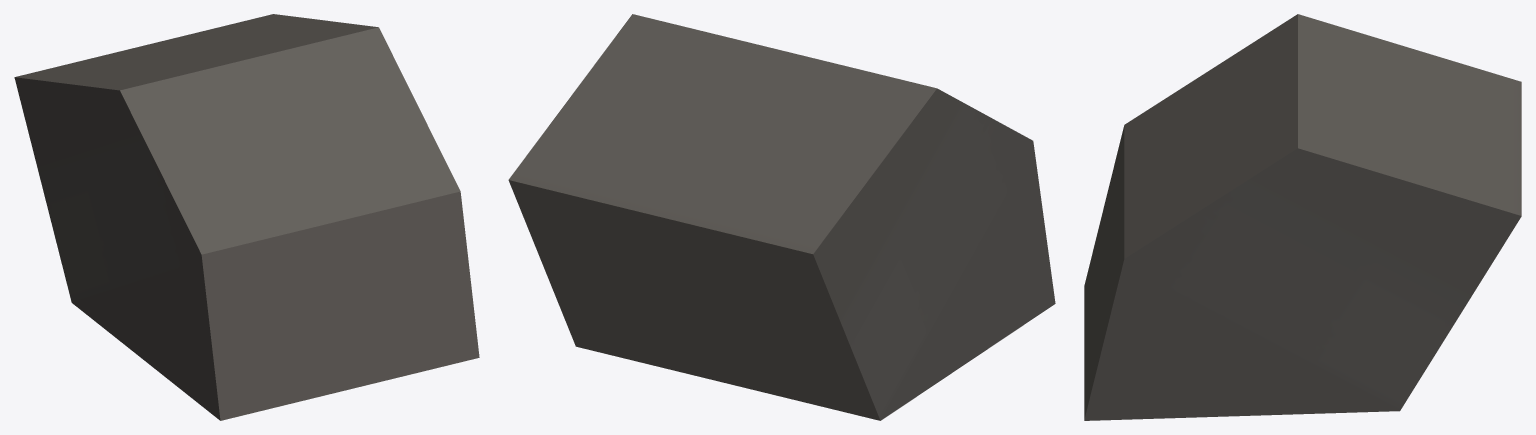
Rendered from SM_Rubble_Trim_Chip_03.fbx.
The picture shows the model from 3 angles, left to right: view 1: azimuth 30°, elevation 25°; view 2: azimuth 150°, elevation 25°; view 3: azimuth 270°, elevation 25°; orthographic projection. The views are drawn at different scales.
Visible parts, largest first — view 1: SM_Rubble_Trim_Chip_03; view 2: SM_Rubble_Trim_Chip_03; view 3: SM_Rubble_Trim_Chip_03.
Part boxes in pixels (box(x1,y1,x2,y2)): SM_Rubble_Trim_Chip_03: box(14, 14, 479, 420); SM_Rubble_Trim_Chip_03: box(508, 14, 1055, 420); SM_Rubble_Trim_Chip_03: box(1084, 14, 1521, 420).
Size of the model in its own units: 24.97 by 23.66 by 34.4.
